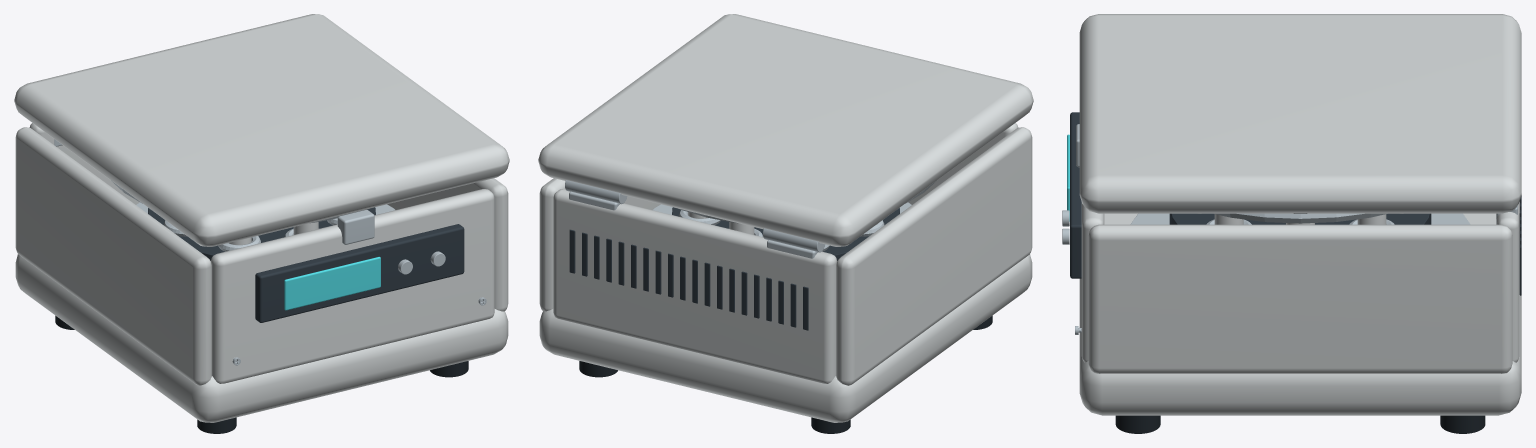
File: 01_laboratory_centrifuge.glb
3 views of the same model, side by side, from view 1: azimuth 30°, elevation 25°; view 2: azimuth 150°, elevation 25°; view 3: azimuth 270°, elevation 25° (orthographic). The views are drawn at different scales.
Parts seen in each view (by area): view 1: Lid_OuterShell, Housing_Side_-0.217, Housing_End_-0.23, Housing_Base, Control_Fascia, LCD_Display, Housing_Side_0.217, Lid_Latch, Rotor_Disc, Housing_End_0.23; view 2: Lid_OuterShell, Housing_End_0.23, Housing_Side_-0.217, Housing_Base, Housing_Side_0.217, Housing_End_-0.23, Lid_Hinge_Pin_-0.145, Lid_Hinge_Pin_0.145, Rotor_Disc; view 3: Lid_OuterShell, Housing_Side_0.217, Housing_Base, Control_Fascia, Housing_End_-0.23, Housing_End_0.23, Chamber_Upper_Rim, Rotor_Disc, Rotor_Chamber_Floor, Rubber_Foot_4, Rubber_Foot_2.
Part boxes in pixels (bbox=[...]): Lid_OuterShell: bbox=[14, 14, 509, 246]; Housing_Side_-0.217: bbox=[15, 127, 211, 385]; Housing_End_-0.23: bbox=[210, 189, 494, 383]; Housing_Base: bbox=[15, 254, 508, 422]; Control_Fascia: bbox=[255, 224, 464, 322]; LCD_Display: bbox=[284, 256, 380, 310]; Housing_Side_0.217: bbox=[387, 178, 508, 311]; Lid_Latch: bbox=[337, 210, 374, 244]; Rotor_Disc: bbox=[148, 207, 375, 260]; Housing_End_0.23: bbox=[29, 123, 139, 204]; Lid_OuterShell: bbox=[538, 14, 1033, 246]; Housing_End_0.23: bbox=[553, 189, 837, 383]; Housing_Side_-0.217: bbox=[836, 127, 1032, 385]; Housing_Base: bbox=[539, 254, 1032, 422]; Housing_Side_0.217: bbox=[539, 178, 660, 311]; Housing_End_-0.23: bbox=[908, 123, 1018, 204]; Lid_Hinge_Pin_-0.145: bbox=[763, 228, 825, 252]; Lid_Hinge_Pin_0.145: bbox=[565, 180, 627, 204]; Rotor_Disc: bbox=[672, 207, 899, 260]; Lid_OuterShell: bbox=[1079, 14, 1521, 213]; Housing_Side_0.217: bbox=[1088, 224, 1512, 373]; Housing_Base: bbox=[1079, 213, 1521, 415]; Control_Fascia: bbox=[1070, 112, 1081, 278]; Housing_End_-0.23: bbox=[1081, 202, 1104, 362]; Housing_End_0.23: bbox=[1496, 203, 1519, 362]; Chamber_Upper_Rim: bbox=[1214, 213, 1387, 223]; Rotor_Disc: bbox=[1169, 213, 1431, 224]; Rotor_Chamber_Floor: bbox=[1130, 213, 1470, 224]; Rubber_Foot_4: bbox=[1440, 415, 1485, 433]; Rubber_Foot_2: bbox=[1115, 415, 1160, 433].
Bounding box in the file's own units: 0.46 × 0.3235 × 0.509.
